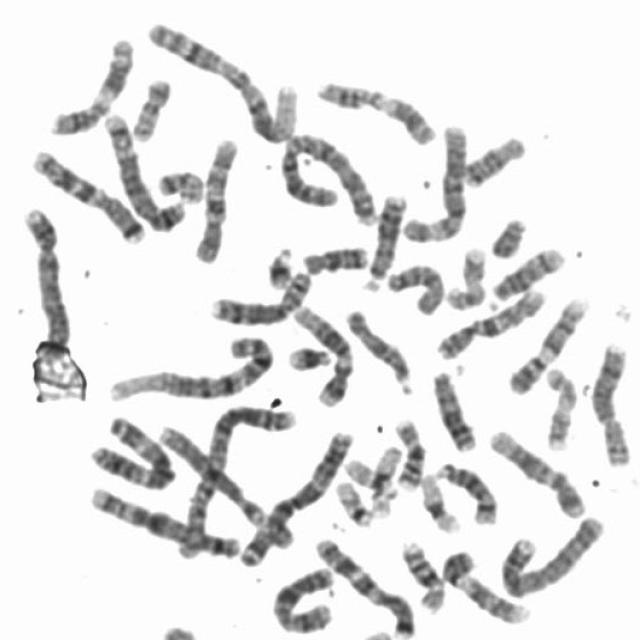A1: (144, 14, 304, 145), (103, 328, 279, 404)
A2: (163, 403, 302, 561), (276, 128, 381, 227)
A3: (236, 424, 358, 568), (83, 410, 179, 493)
B4: (492, 508, 608, 600), (17, 201, 74, 362)
B5: (84, 480, 244, 560), (98, 106, 188, 234)
C10: (430, 283, 548, 362), (188, 132, 240, 266)
C11: (45, 31, 136, 138), (313, 74, 442, 147)
C12: (483, 422, 589, 520), (288, 298, 358, 410)
C6: (153, 418, 302, 552), (397, 117, 471, 243)
C7: (27, 142, 150, 244), (310, 531, 419, 638)
C8: (206, 264, 316, 326), (587, 336, 634, 469)
C9: (502, 291, 590, 396), (437, 544, 534, 626)
D13: (358, 188, 410, 293), (426, 364, 479, 453)
D14: (486, 239, 568, 305), (430, 456, 499, 526)
D15: (339, 303, 418, 396), (382, 256, 446, 316)
E16: (397, 534, 448, 614), (389, 412, 427, 490)
E17: (538, 360, 580, 452), (441, 242, 489, 311)
E18: (456, 128, 529, 189), (297, 240, 371, 276)
F19: (414, 468, 463, 536), (366, 439, 404, 518)
F20: (126, 72, 175, 144), (154, 164, 206, 204)
G21: (262, 239, 297, 291), (283, 339, 333, 373)
G22: (339, 452, 401, 499), (331, 475, 377, 529)
X: (268, 561, 337, 635)
Y: (485, 210, 529, 260)
